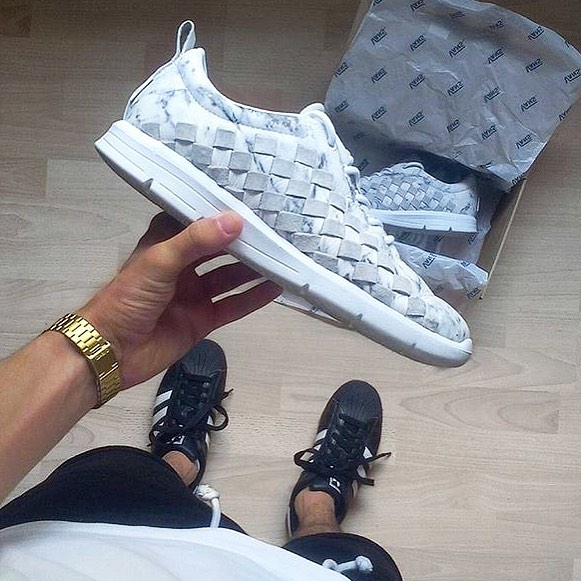sneaker: (272, 371, 397, 551), (139, 323, 237, 506)
